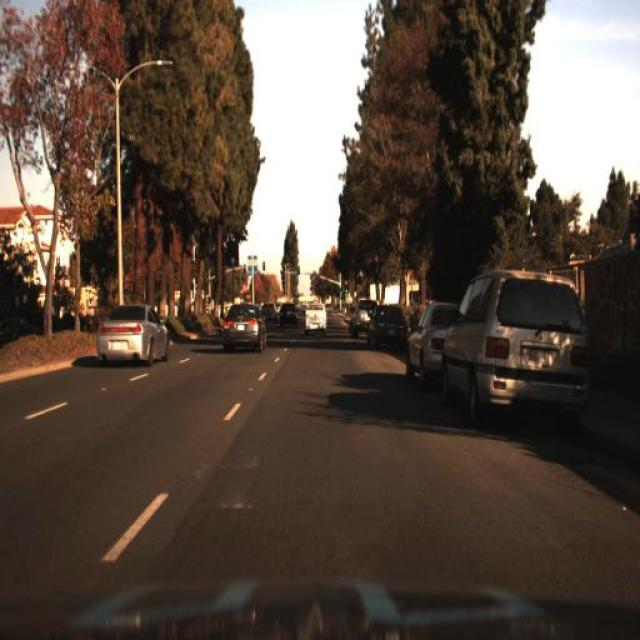car: (438, 273, 588, 432), (405, 297, 467, 383), (96, 302, 173, 369), (217, 299, 271, 353), (364, 300, 404, 350), (351, 298, 377, 342), (302, 300, 332, 336), (277, 298, 301, 331), (260, 300, 280, 332)
